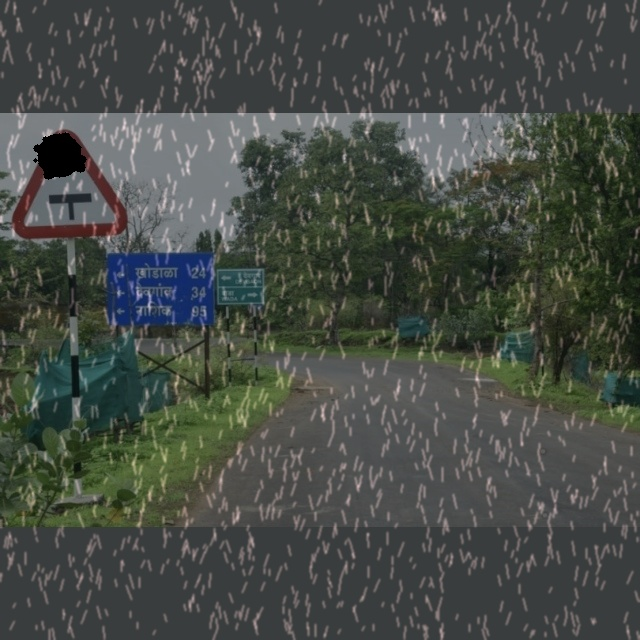T_Intersection: (16, 127, 131, 237)
